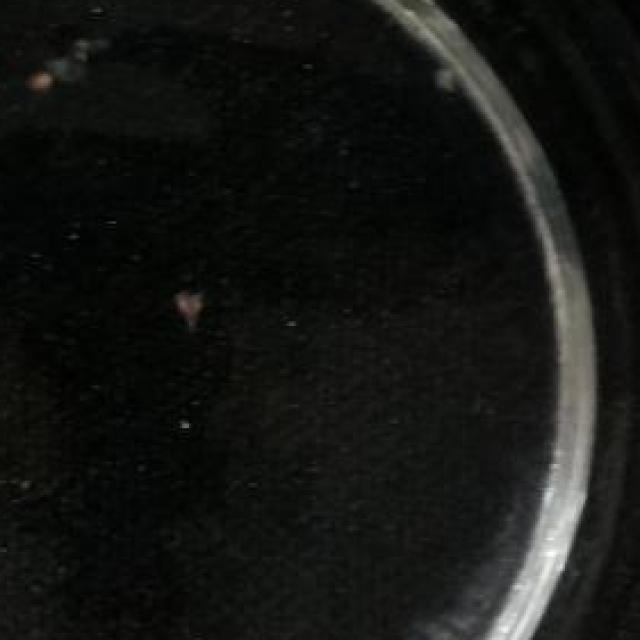Microplastic: (12, 15, 112, 110), (160, 262, 218, 331)
